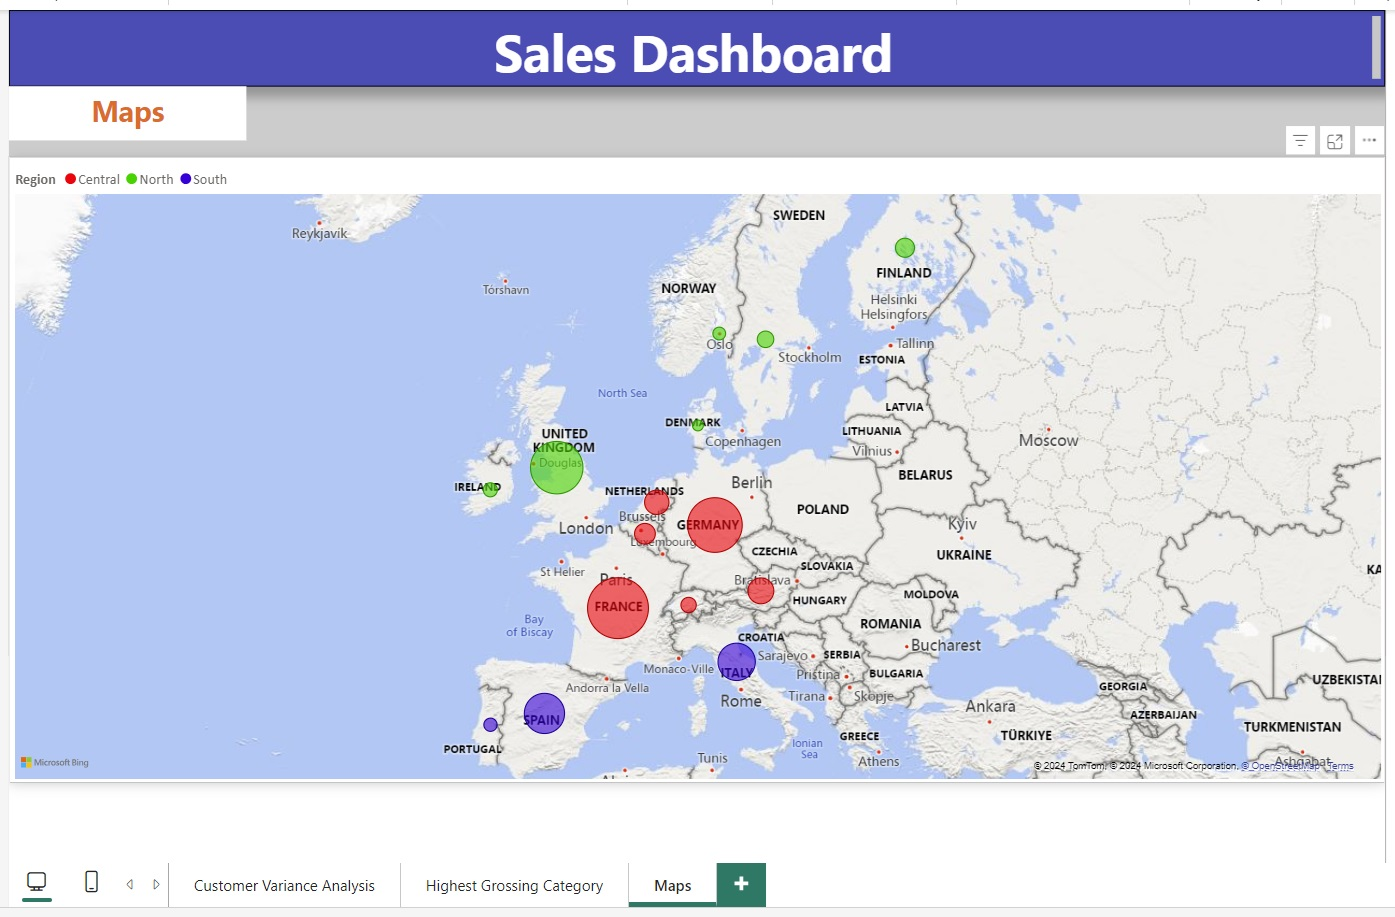

This screenshot's page, from the dashboard's own definition file:
{"tool":"powerbi","page":{"name":"Maps","canvas":[1280,720],"ordinal":2},"visuals":[{"type":"map","fields":{"Category":["Table1.Country"],"Size":["Sum(Table1.Gross Sales)"],"Series":["Table1.Region"]},"box":[0,136.5,1280,582.9],"z":0},{"type":"textbox","box":[0,0,1280,71.2],"z":1000},{"type":"textbox","box":[0,71.2,221,50.4],"z":2000}]}

Visuals, with their boxes on the page's 1280x720 design canvas (x1, y1, x2, y2). These are canvas units, not pixel positions in the 1395x917 screenshot, which may show the page scaled, cropped or inside an application window:
map - Table1.Country x Sum(Table1.Gross Sales): crop(0, 136, 1280, 719)
textbox: crop(0, 0, 1280, 71)
textbox: crop(0, 71, 221, 122)
